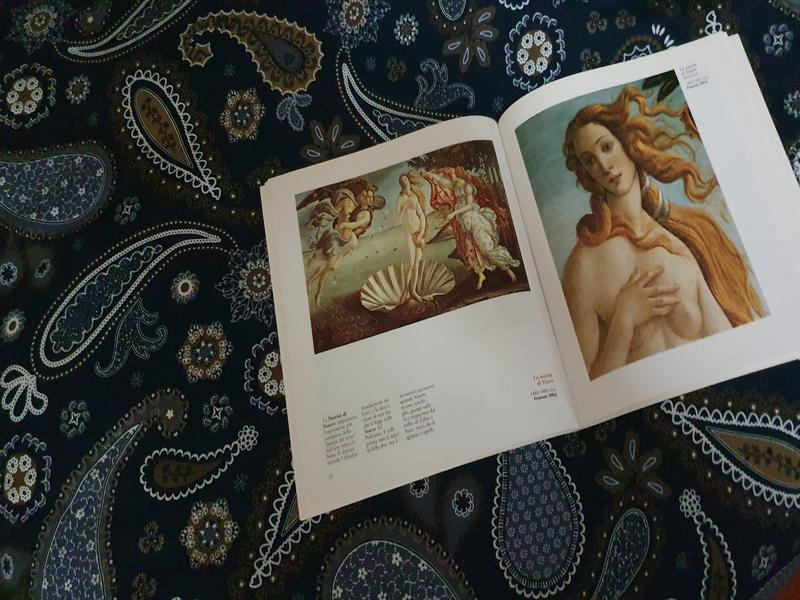Venere: (291, 137, 534, 354)
